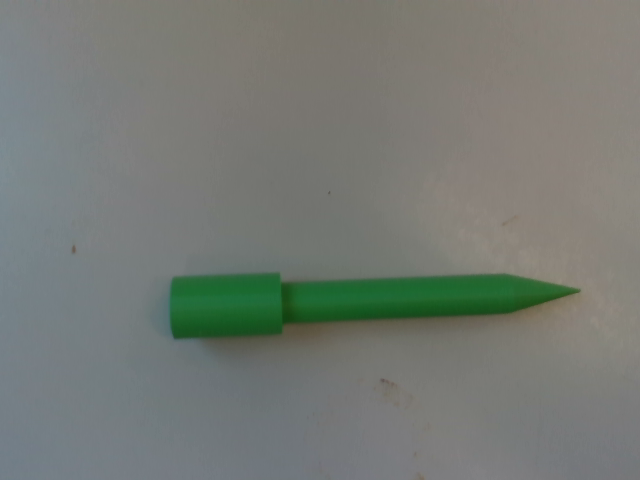Probe: (165, 265, 586, 347)
